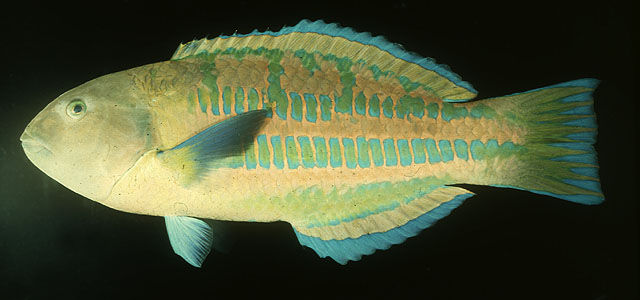fish: (18, 19, 606, 268)
